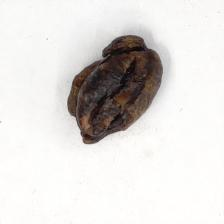NG: (68, 35, 161, 145)
